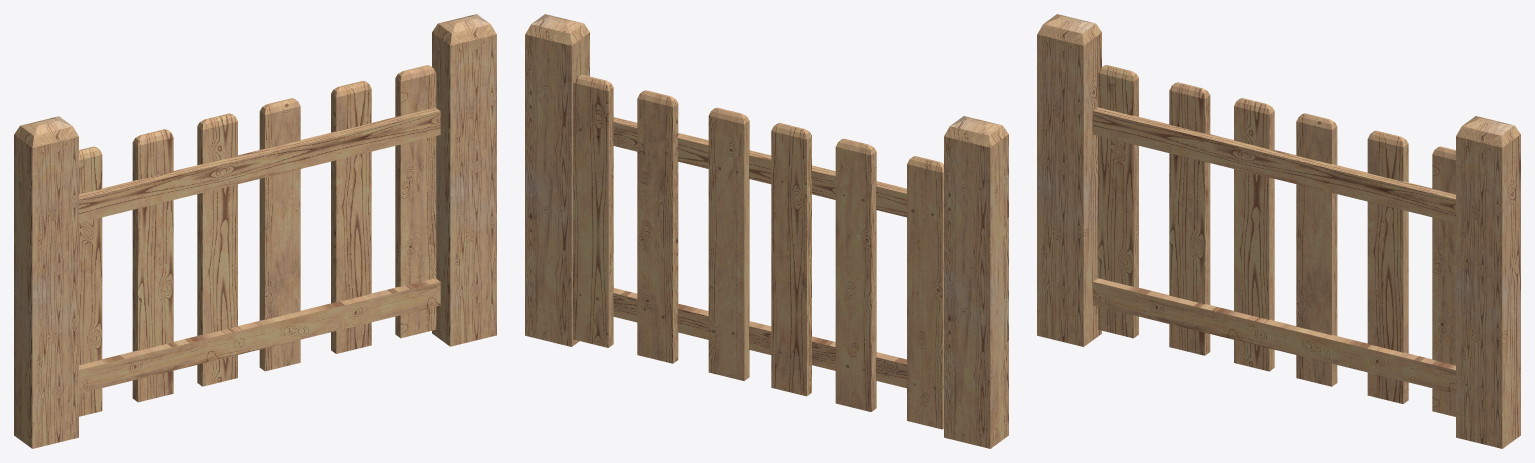
File: FenceWithDoorPilar.fbx
3 renders of one model, left to right at view 1: azimuth 30°, elevation 25°; view 2: azimuth 150°, elevation 25°; view 3: azimuth 330°, elevation 25°, orthographic.
Parts seen in each view (by area): view 1: Fence_B.001, Fence_Door_Pilar.003, Fence_Door_Pilar.004; view 2: Fence_B.001, Fence_Door_Pilar.003, Fence_Door_Pilar.004; view 3: Fence_B.001, Fence_Door_Pilar.004, Fence_Door_Pilar.003.
Boxes of the visible parts, x1=… form: Fence_B.001: x1=79, y1=65, x2=440, y2=416; Fence_Door_Pilar.003: x1=14, y1=116, x2=78, y2=448; Fence_Door_Pilar.004: x1=432, y1=14, x2=496, y2=346; Fence_B.001: x1=573, y1=74, x2=943, y2=429; Fence_Door_Pilar.003: x1=944, y1=116, x2=1008, y2=448; Fence_Door_Pilar.004: x1=525, y1=14, x2=589, y2=346; Fence_B.001: x1=1093, y1=65, x2=1455, y2=416; Fence_Door_Pilar.004: x1=1456, y1=116, x2=1520, y2=448; Fence_Door_Pilar.003: x1=1037, y1=14, x2=1101, y2=346.
Bounding box in the file's own units: 303 × 196 × 21.04.
Materials: 3 (3 with a texture image).
